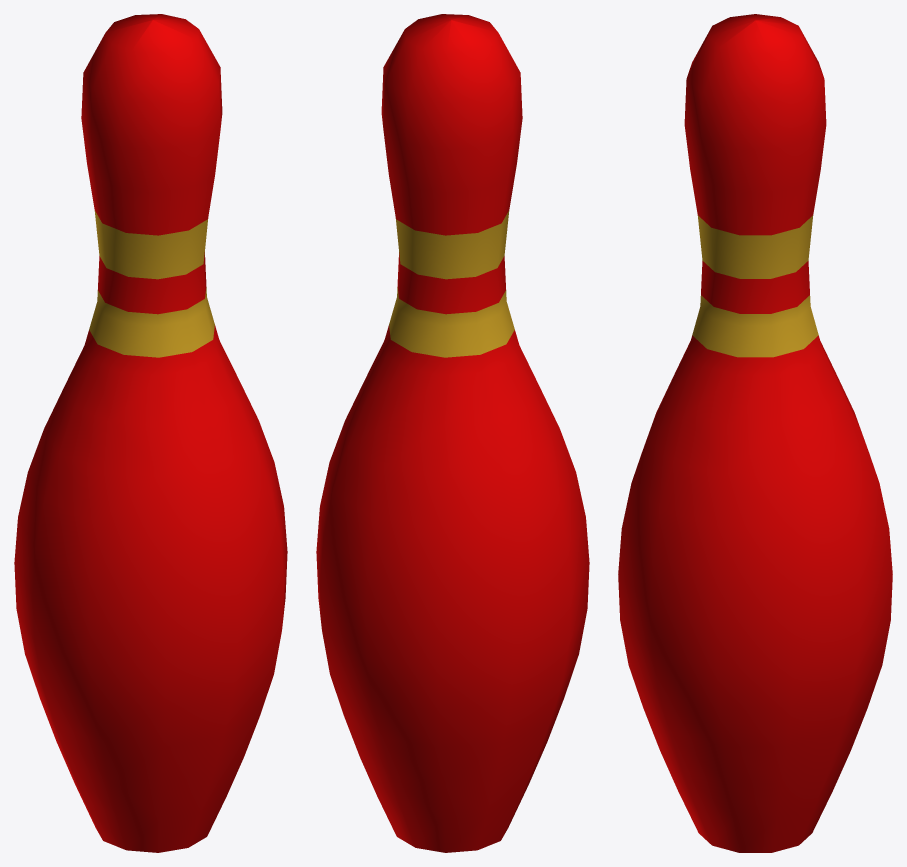
The model's file is RedPin.fbx.
3 views of the same model, side by side, from view 1: azimuth 30°, elevation 25°; view 2: azimuth 150°, elevation 25°; view 3: azimuth 270°, elevation 25° (orthographic).
Visible parts, largest first — view 1: nurbsToPoly1; view 2: nurbsToPoly1; view 3: nurbsToPoly1.
Part boxes in pixels (<box>): nurbsToPoly1: <box>14,14,287,852</box>; nurbsToPoly1: <box>316,14,589,852</box>; nurbsToPoly1: <box>618,14,892,852</box>.
Bounding box in the file's own units: 1.38 × 4.55 × 1.4.
